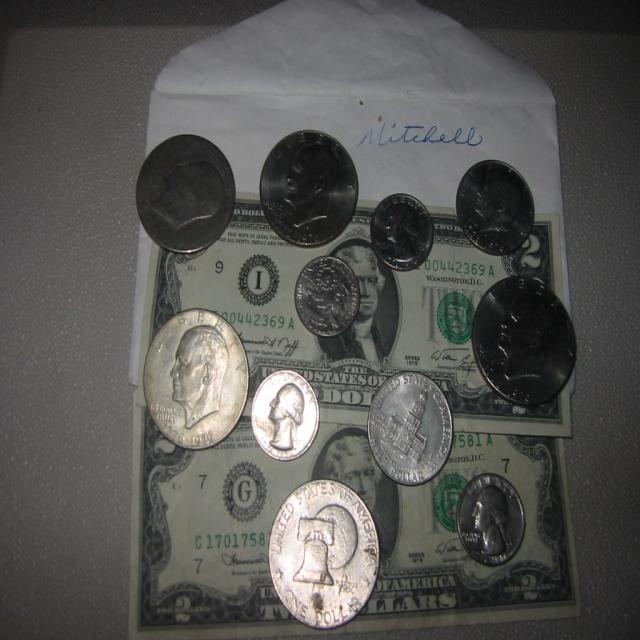Coin: (268, 476, 382, 630), (143, 305, 248, 447), (470, 278, 582, 407), (133, 129, 236, 254), (258, 125, 359, 249), (364, 369, 456, 484), (453, 157, 537, 256), (452, 473, 528, 567), (249, 364, 321, 459), (368, 190, 440, 275), (289, 256, 362, 339)
